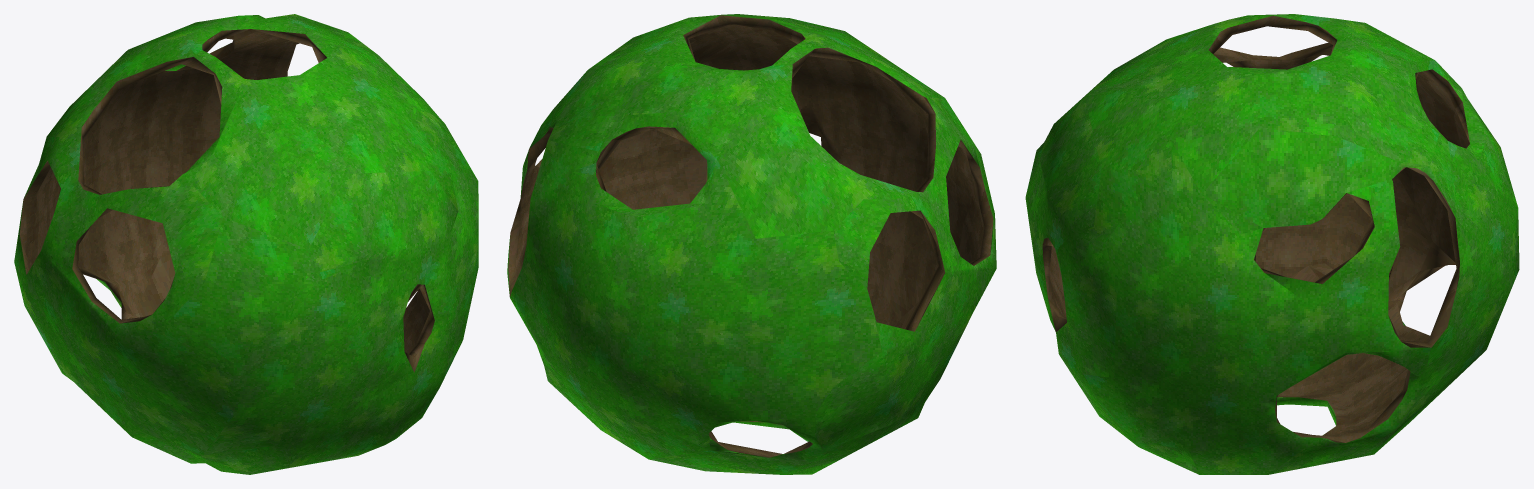
Rendered from HikeGardenHolePlanetLow.fbx.
3 renders of one model, left to right at view 1: azimuth 30°, elevation 25°; view 2: azimuth 150°, elevation 25°; view 3: azimuth 270°, elevation 25°, orthographic. The views are drawn at different scales.
Parts seen in each view (by area): view 1: mesh-0, mesh-0.001; view 2: mesh-0, mesh-0.001; view 3: mesh-0, mesh-0.001.
Boxes of the visible parts, x1=… form: mesh-0: x1=14, y1=14, x2=478, y2=474; mesh-0.001: x1=19, y1=29, x2=434, y2=372; mesh-0: x1=507, y1=14, x2=996, y2=474; mesh-0.001: x1=508, y1=15, x2=993, y2=457; mesh-0: x1=1025, y1=14, x2=1519, y2=474; mesh-0.001: x1=1042, y1=15, x2=1469, y2=442.
Size of the model in its own units: 739791 by 715710 by 784470.
2 materials, 2 textured.
